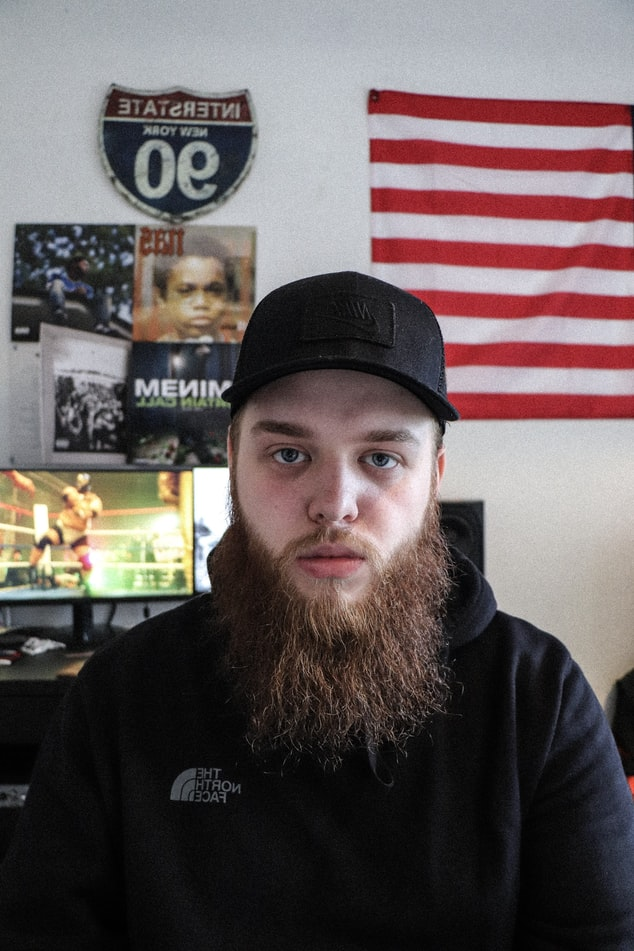beard: (212, 502, 458, 765)
